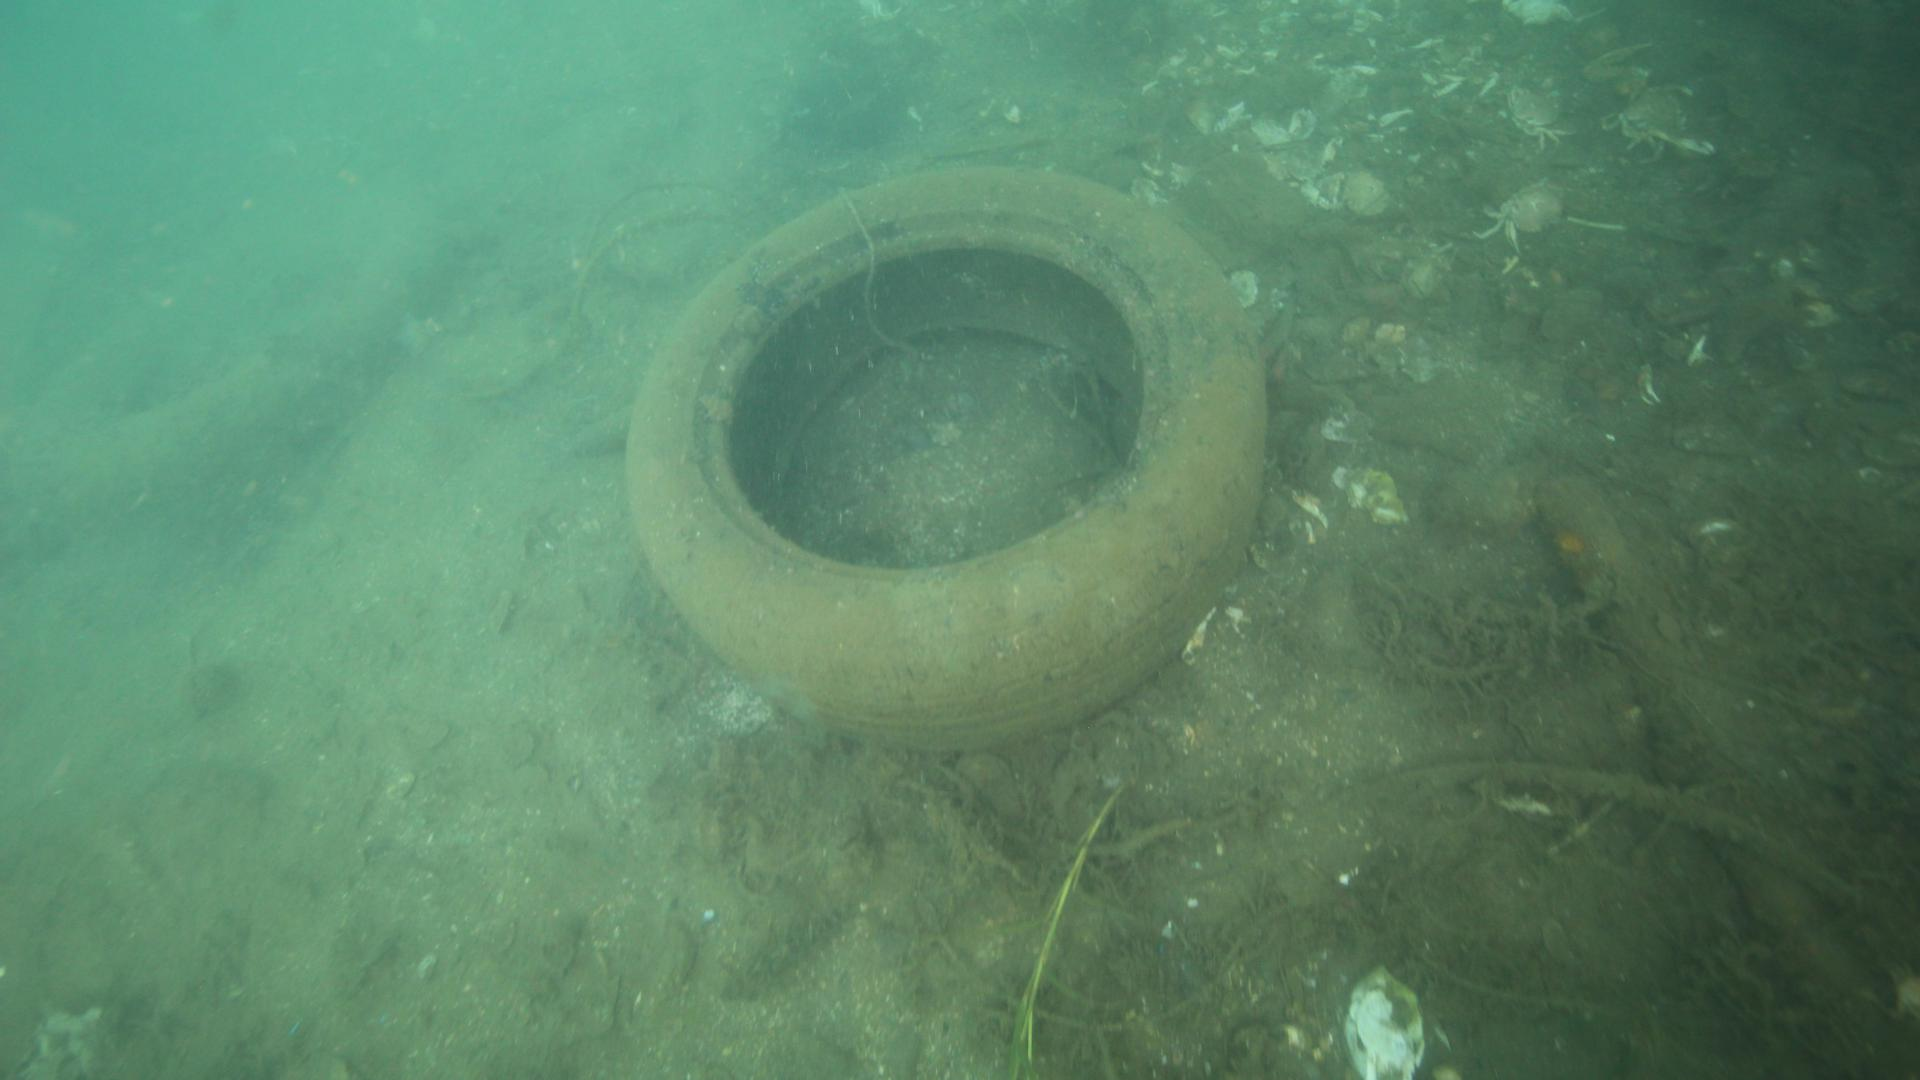tire: (622, 167, 1265, 750)
